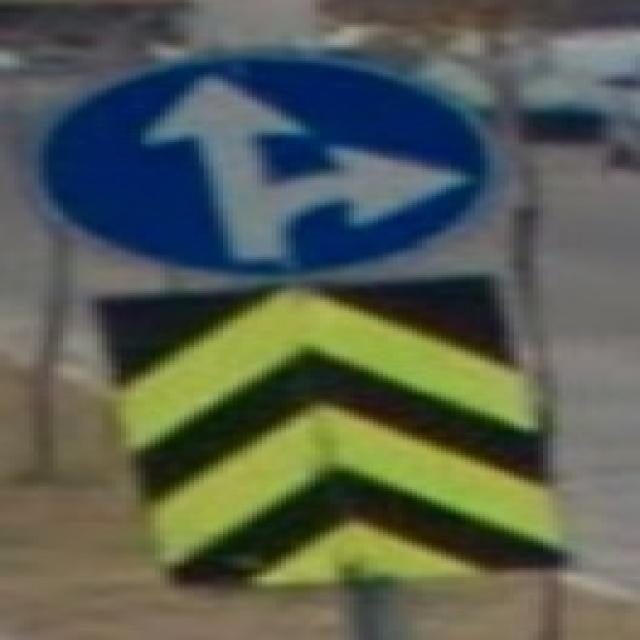Straight or Right: (37, 54, 498, 275)
